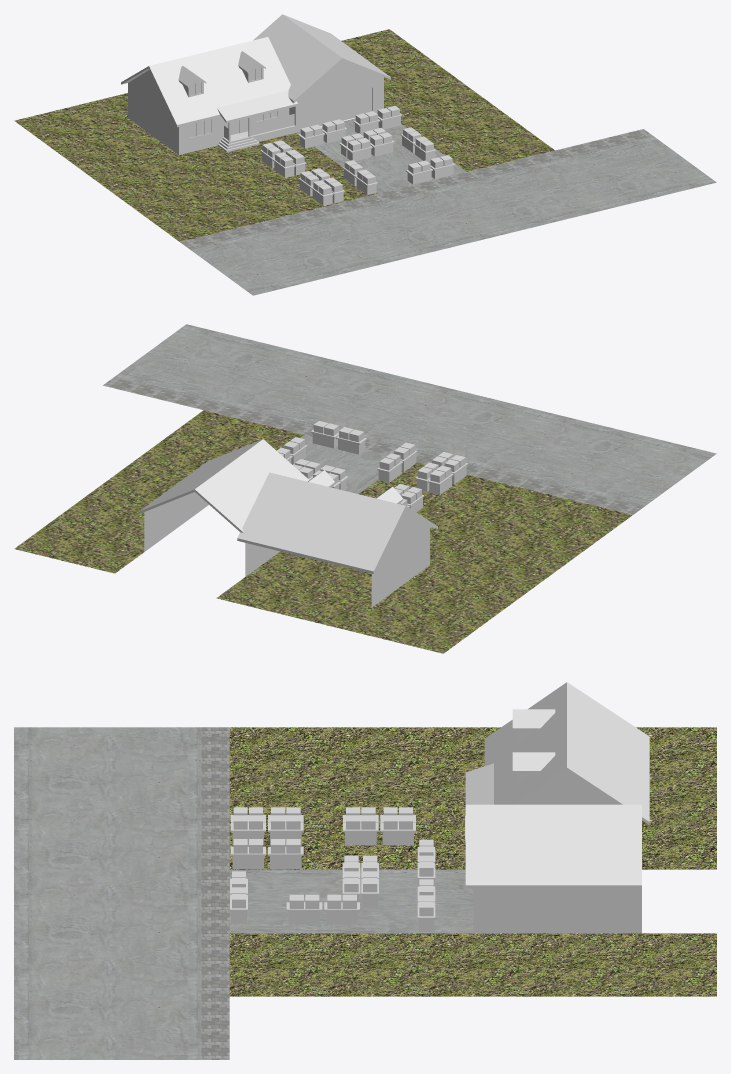
The picture shows the model from 3 angles, top to bottom: view 1: azimuth 30°, elevation 25°; view 2: azimuth 150°, elevation 25°; view 3: azimuth 270°, elevation 25°; orthographic projection. The views are drawn at different scales.
Visible parts, largest first — view 1: Floor, House, Cube, Cube.012, Cube.008, Cube.009, Cube.013, Cube.003, Cube.001, Cube.002; view 2: Floor, House, Cube.012, Cube.013, Cube.004, Cube.018; view 3: Floor, House, Cube.011, Cube.016, Cube.010, Cube.017, Cube.004, Cube.005, Cube.021, Cube.020, Cube.003, Cube.007 (+1 smaller).
Part boxes in pixels (bbox=[...]): Floor: bbox=[14, 29, 716, 295]; House: bbox=[121, 14, 390, 154]; Cube: bbox=[298, 124, 324, 148]; Cube.012: bbox=[406, 160, 432, 184]; Cube.008: bbox=[345, 138, 372, 161]; Cube.009: bbox=[370, 132, 394, 156]; Cube.013: bbox=[430, 155, 455, 179]; Cube.003: bbox=[377, 105, 402, 129]; Cube.001: bbox=[322, 119, 347, 143]; Cube.002: bbox=[353, 111, 380, 134]; Floor: bbox=[14, 324, 716, 653]; House: bbox=[139, 439, 437, 607]; Cube.012: bbox=[336, 427, 366, 454]; Cube.013: bbox=[311, 421, 338, 448]; Cube.004: bbox=[377, 453, 402, 482]; Cube.018: bbox=[427, 465, 453, 494]; Floor: bbox=[14, 727, 716, 1059]; House: bbox=[465, 682, 649, 933]; Cube.011: bbox=[286, 894, 322, 924]; Cube.016: bbox=[343, 815, 378, 845]; Cube.010: bbox=[324, 894, 359, 924]; Cube.017: bbox=[380, 815, 415, 845]; Cube.004: bbox=[268, 839, 303, 868]; Cube.005: bbox=[230, 839, 265, 868]; Cube.021: bbox=[268, 815, 303, 845]; Cube.020: bbox=[230, 815, 265, 845]; Cube.003: bbox=[417, 895, 435, 931]; Cube.007: bbox=[361, 871, 378, 907].
Size of the model in its own units: 42 by 6.2 by 37.5.
